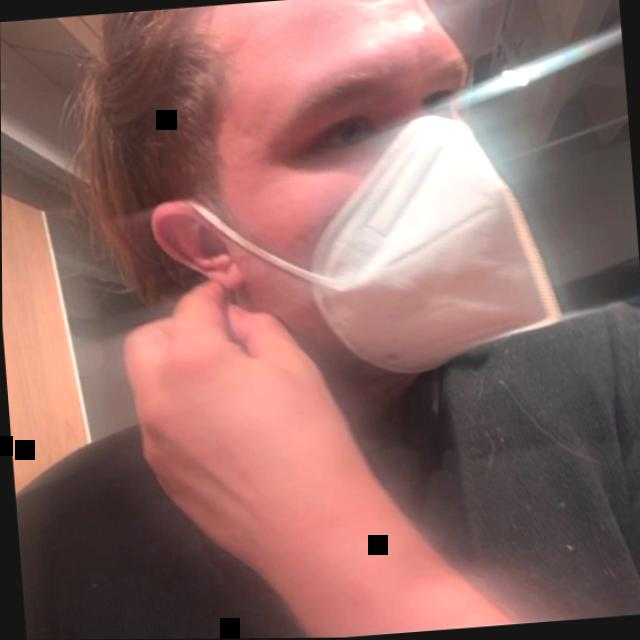Mask: (62, 0, 563, 395)
